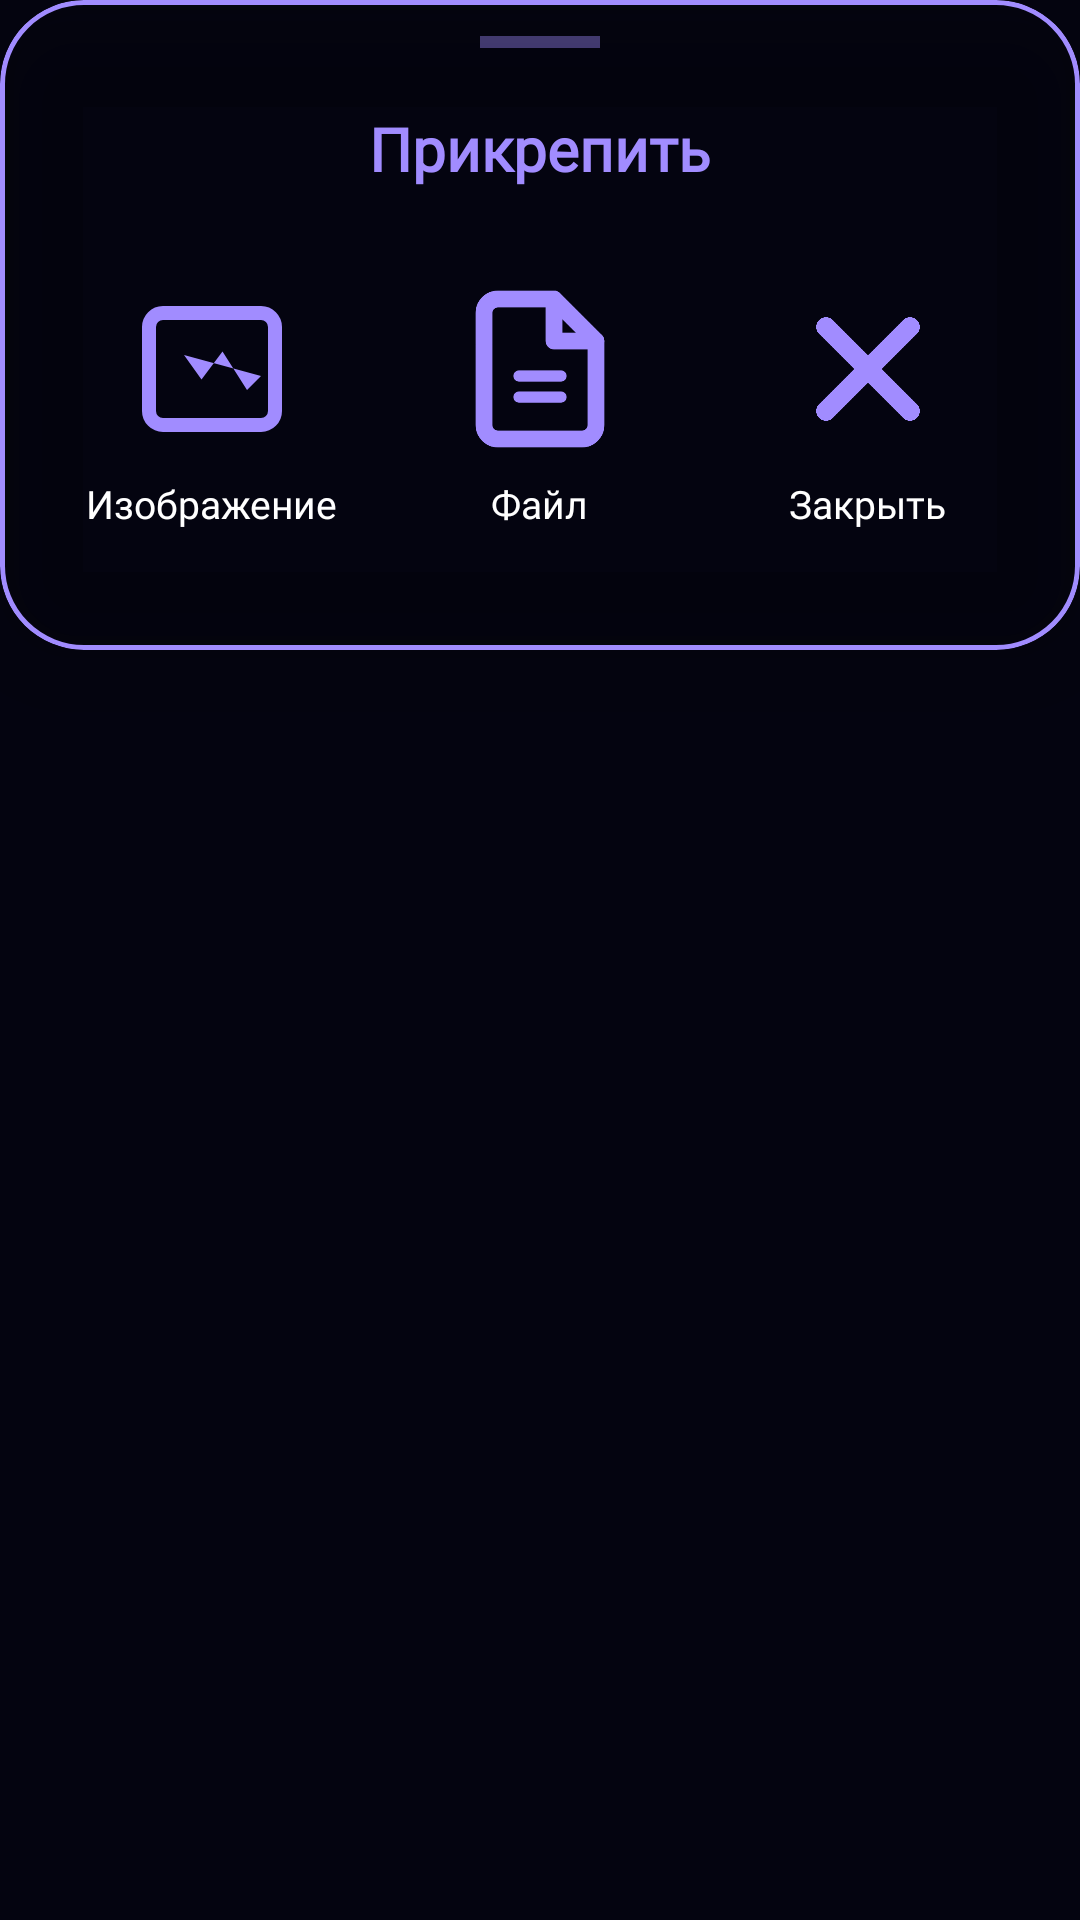

Where icons sit on this 1080px x 1920px app screen, as (x1, y1, x2, y2):
attach file: (475, 290, 605, 448)
close: (816, 317, 920, 421)
